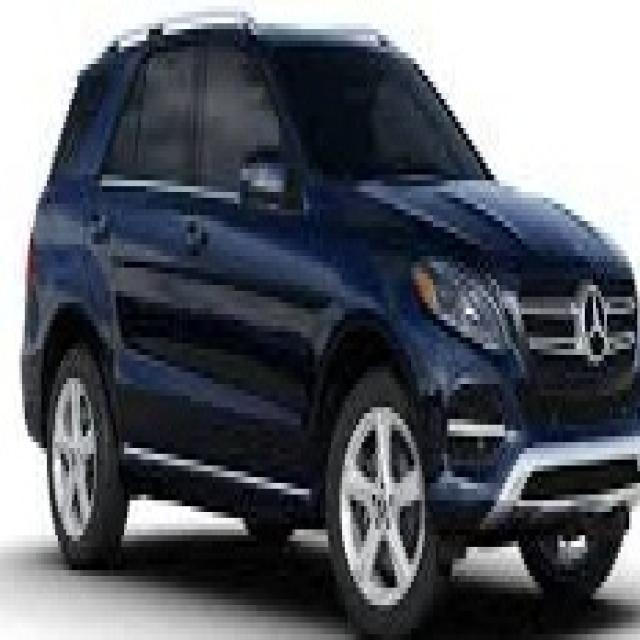blue: (21, 4, 640, 640)
